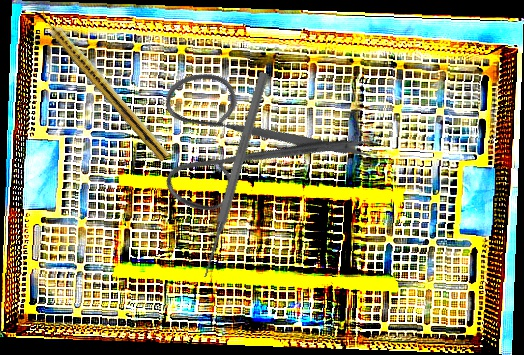Handpiece: (34, 5, 173, 163)
Iris Scissors: (119, 7, 383, 267)
Pusher: (198, 70, 271, 280)
